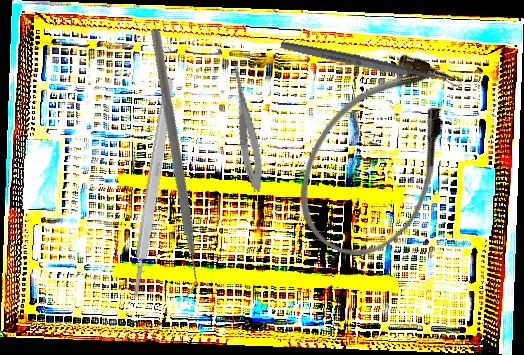Cannula: (274, 34, 486, 277)
Chopper: (34, 26, 305, 304)
Micro Scissor: (223, 59, 268, 194)
Scalpel Handle: (128, 76, 177, 299)
Surgical Spoon: (279, 39, 463, 89)
